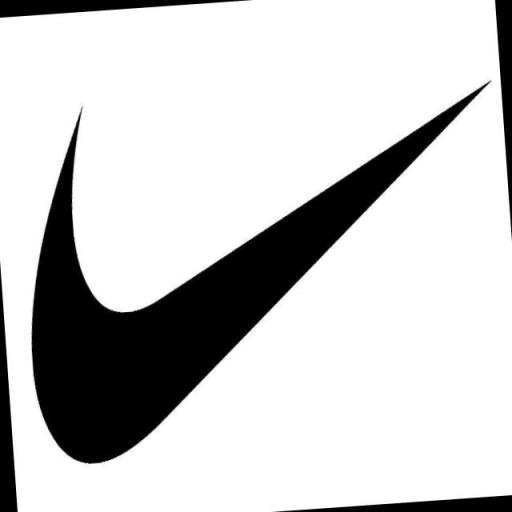Nike: (14, 78, 512, 472)
